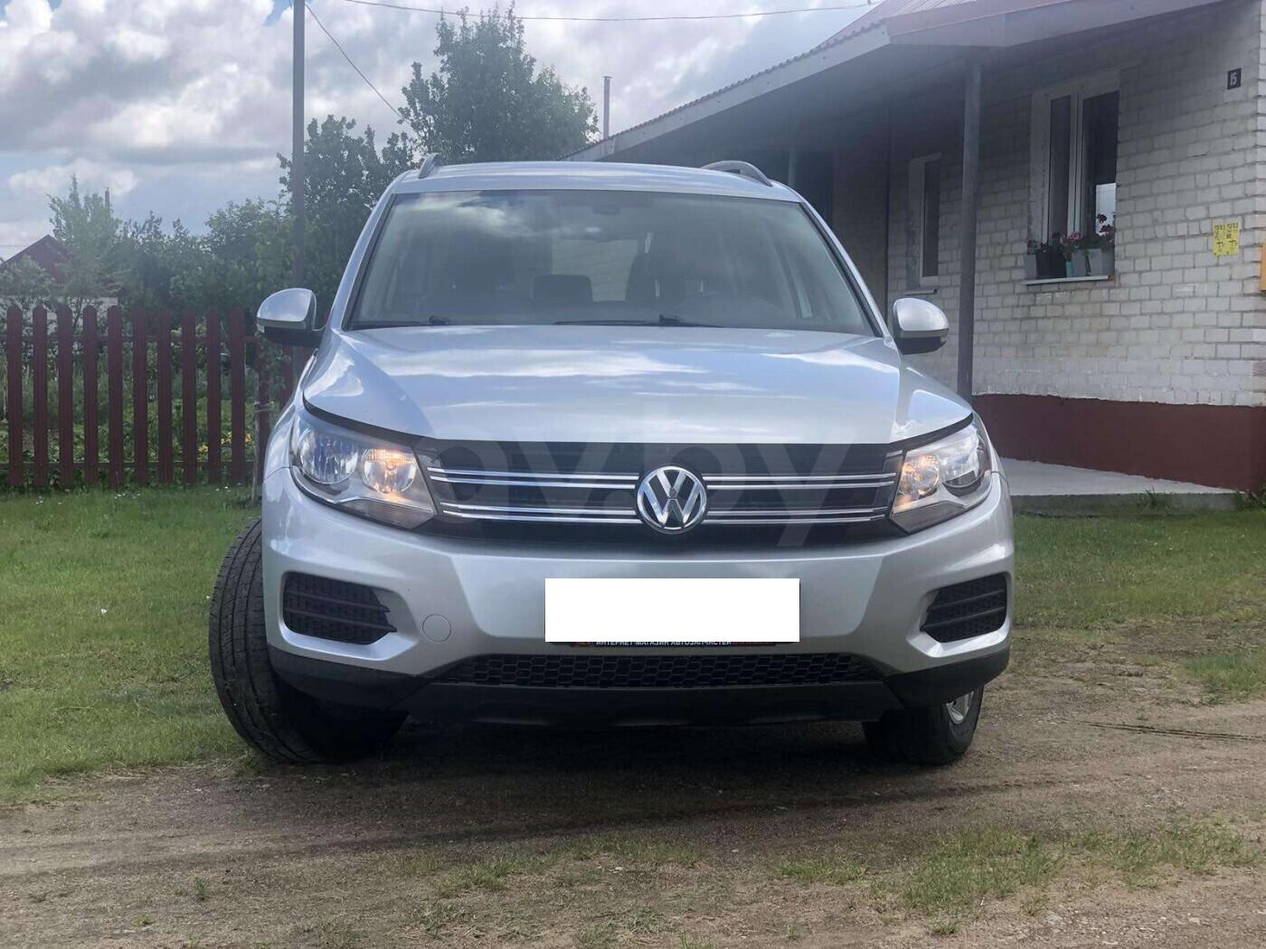Tiguan_2011-2018: (205, 155, 1019, 786)
